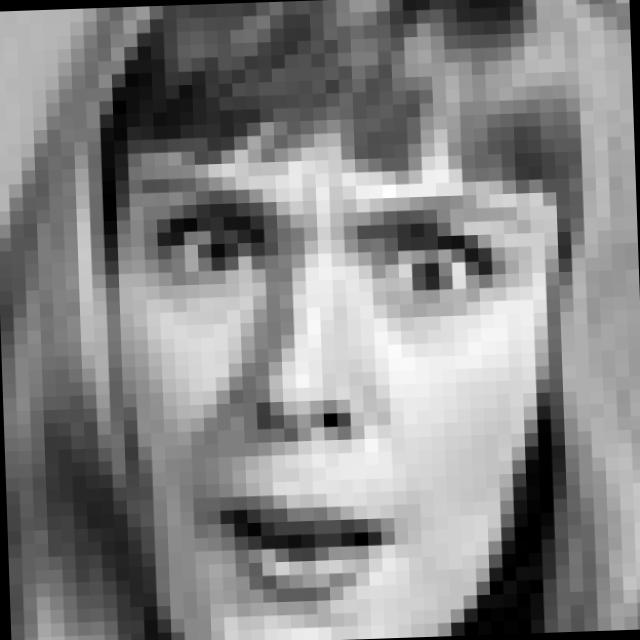disgust: (132, 157, 527, 614)
